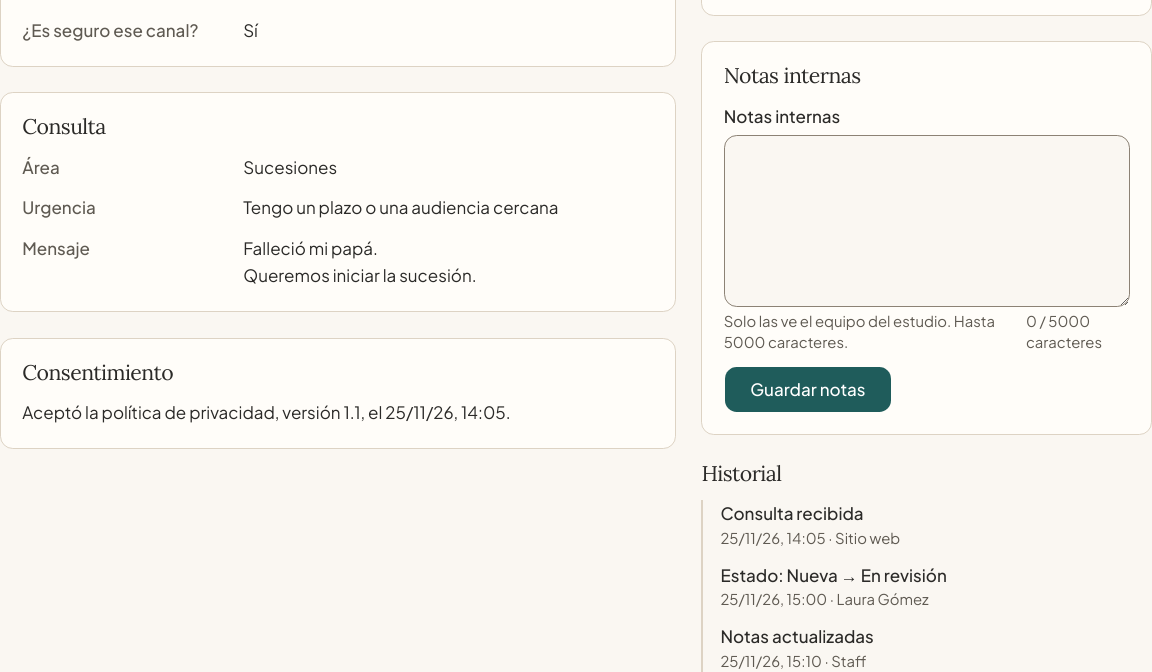
Test case: NotesForm › confirms a save
The width and height of the screenshot is (1152, 672).
(page scrolled)
Click the button "Guardar notas" at [808, 390], box [724,366,892,413]
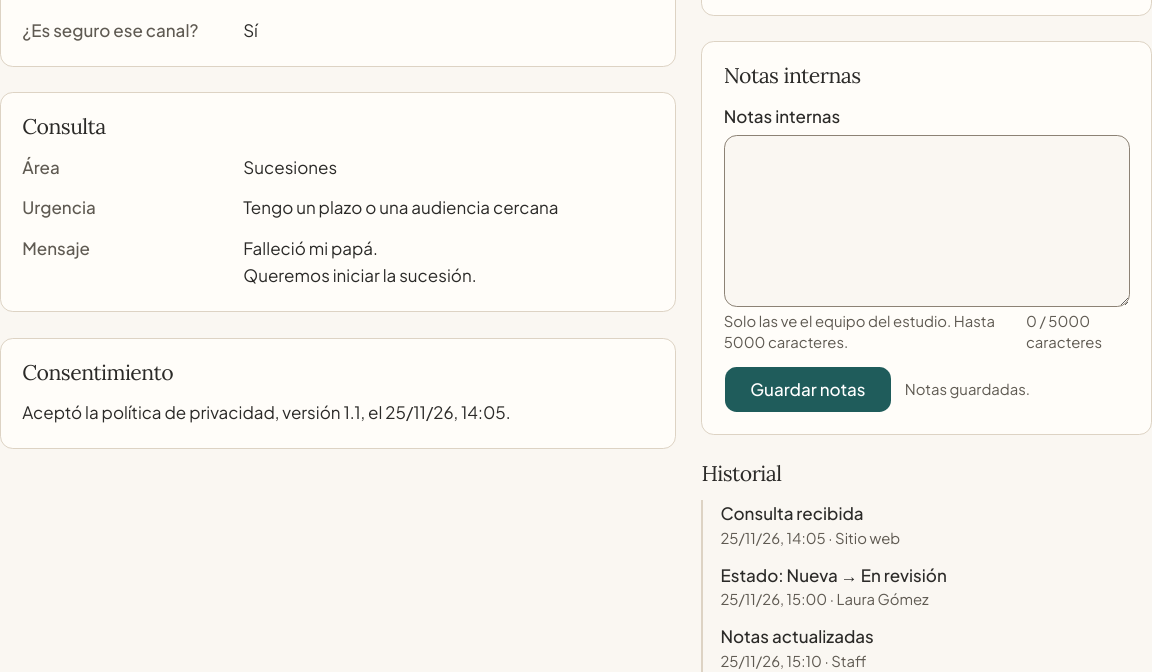
Result: the message reads "Notas guardadas." at [905,380,1030,398]
